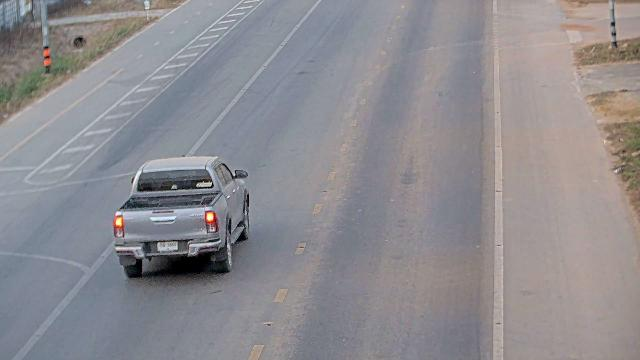pickup-truck: (112, 155, 250, 278)
